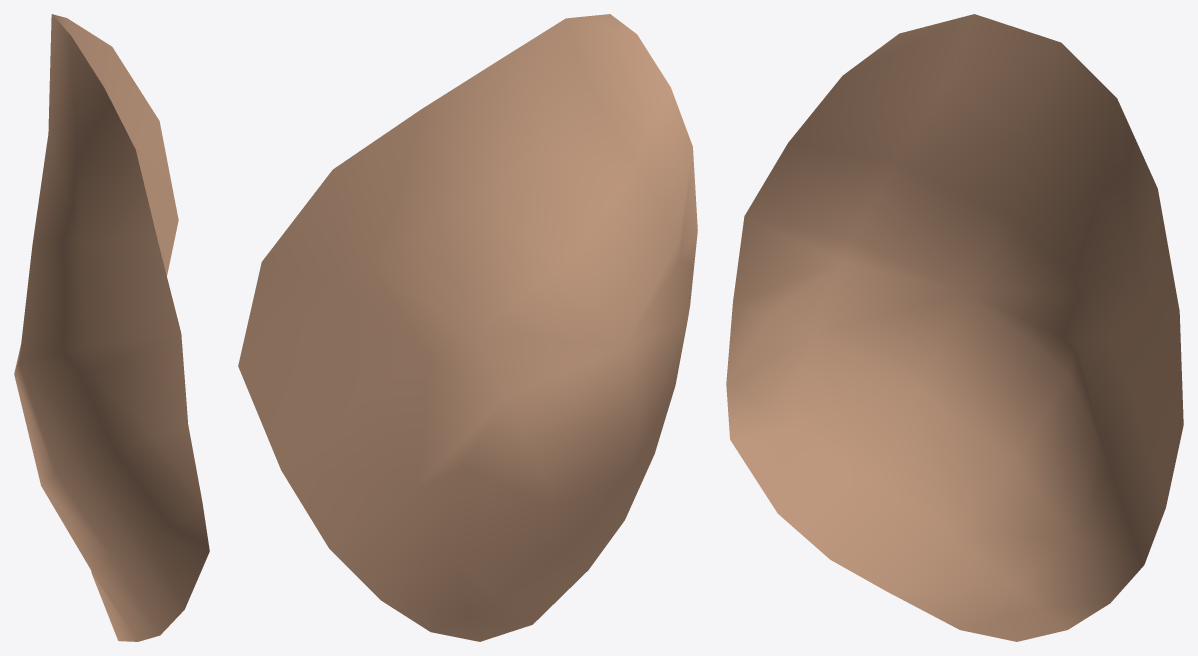
File: lateral-malleolus-r.glb
The picture shows the model from 3 angles, left to right: view 1: azimuth 30°, elevation 25°; view 2: azimuth 150°, elevation 25°; view 3: azimuth 270°, elevation 25°; orthographic projection. The views are drawn at different scales.
Visible parts, largest first — view 1: Lateral malleolus.r; view 2: Lateral malleolus.r; view 3: Lateral malleolus.r.
Boxes of the visible parts, x1,y1,x2,y2 form: Lateral malleolus.r: (14,14,209,641); Lateral malleolus.r: (238,14,697,641); Lateral malleolus.r: (726,14,1183,641).
Size of the model in its own units: 0.0245 by 0.0531 by 0.0368.
